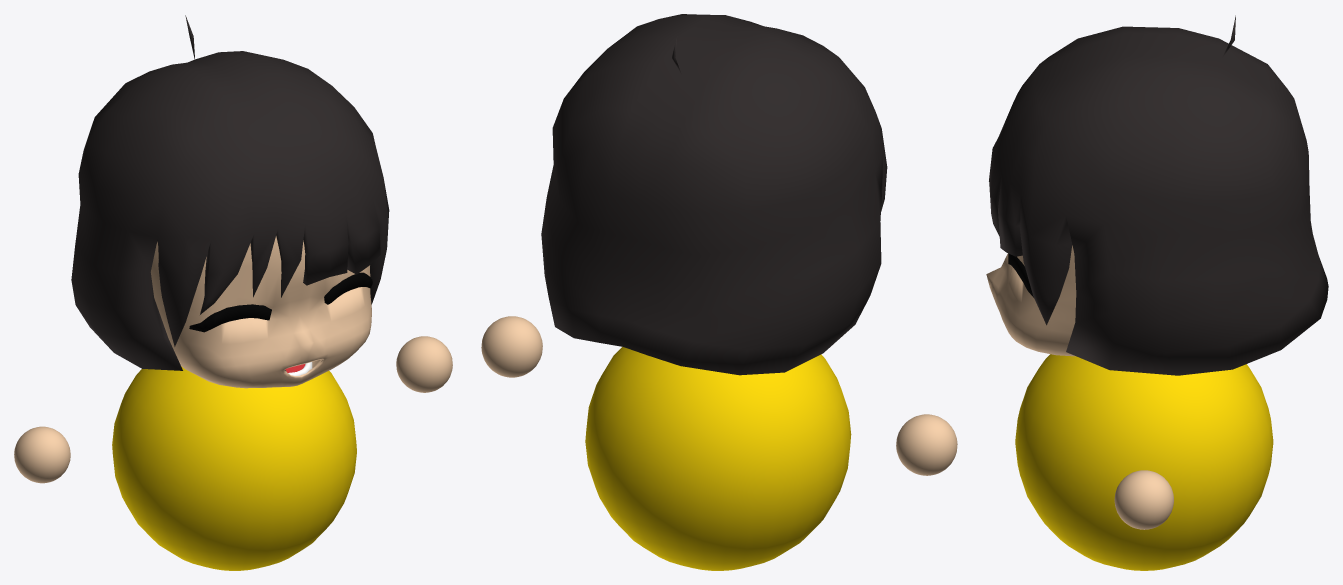
Rendered from girl.glb.
The picture shows the model from 3 angles, left to right: view 1: azimuth 30°, elevation 25°; view 2: azimuth 150°, elevation 25°; view 3: azimuth 270°, elevation 25°; orthographic projection. The views are drawn at different scales.
Parts seen in each view (by area): view 1: zizo_kid.hair, zizo_kid.003, zizo_kid.skin.001, right.skin.hand, left.skin.hand; view 2: zizo_kid.hair, zizo_kid.003, right.skin.hand, left.skin.hand; view 3: zizo_kid.hair, zizo_kid.003, zizo_kid.skin.001, right.skin.hand.
Part boxes in pixels (<box>): zizo_kid.hair: <box>71,15,389,370</box>; zizo_kid.003: <box>112,362,356,570</box>; zizo_kid.skin.001: <box>150,236,371,388</box>; right.skin.hand: <box>396,336,452,392</box>; left.skin.hand: <box>14,426,70,483</box>; zizo_kid.hair: <box>541,14,887,375</box>; zizo_kid.003: <box>585,347,851,570</box>; right.skin.hand: <box>481,316,542,377</box>; left.skin.hand: <box>896,414,957,475</box>; zizo_kid.hair: <box>989,15,1328,375</box>; zizo_kid.003: <box>1015,354,1273,570</box>; zizo_kid.skin.001: <box>986,245,1076,356</box>; right.skin.hand: <box>1114,470,1173,529</box>.
Size of the model in its own units: 0.3396 by 0.3876 by 0.2218.
1 material, 1 textured.
